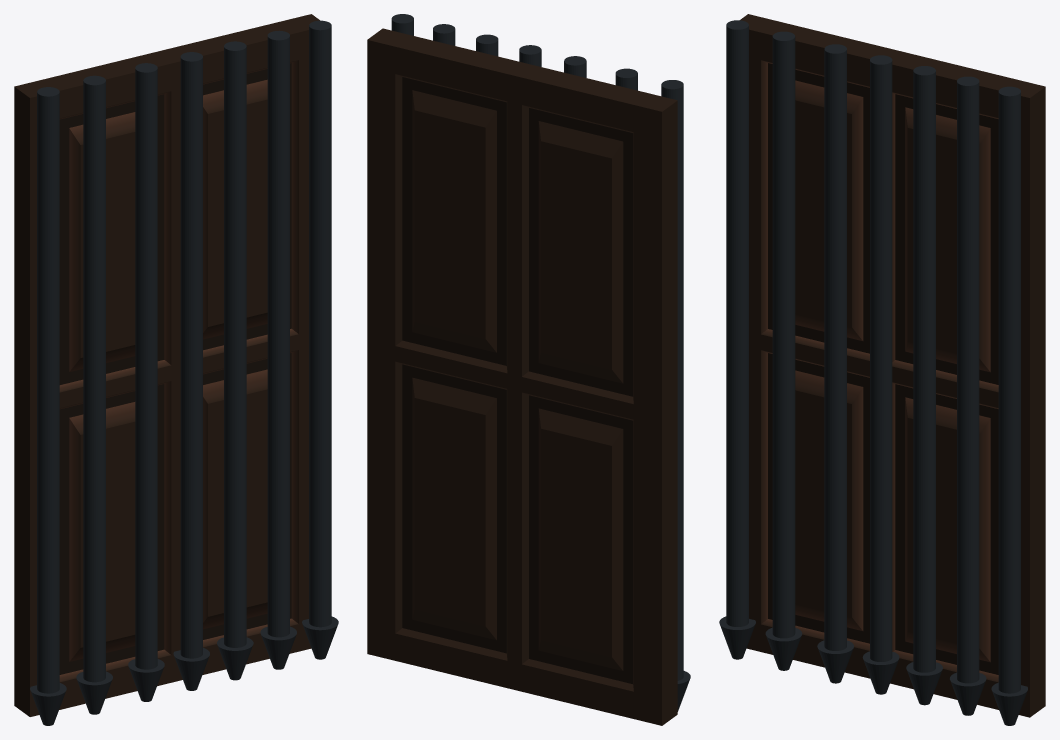
The model's file is tür.fbx.
The picture shows the model from 3 angles, left to right: view 1: azimuth 30°, elevation 25°; view 2: azimuth 150°, elevation 25°; view 3: azimuth 330°, elevation 25°; orthographic projection.
Visible parts, largest first — view 1: animation, Cylinder.005; view 2: animation, Cylinder.005; view 3: animation, Cylinder.005.
Part boxes in pixels (x1,y1,x2,y2): animation: (14,14,319,716); Cylinder.005: (30,20,338,725); animation: (367,28,677,725); Cylinder.005: (391,14,690,711); animation: (740,14,1045,717); Cylinder.005: (719,20,1027,725).
Bounding box in the file's own units: 245 × 487 × 45.91.
